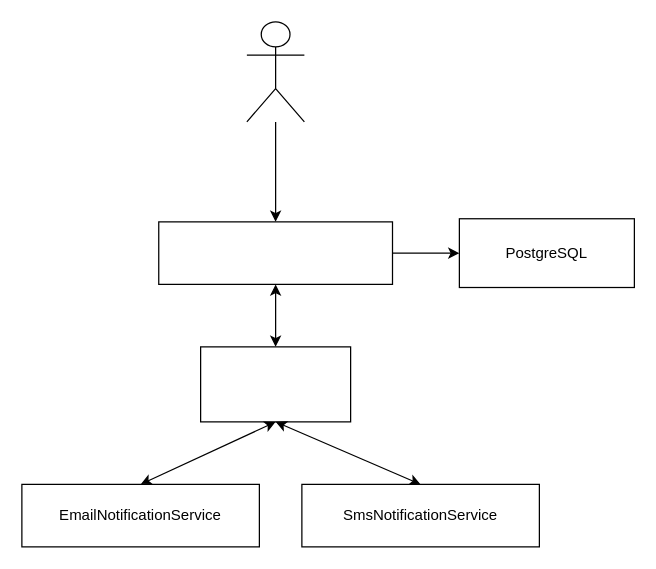
This 656x569 diagram has some shape labels left out. Each missing label, with the box of its shape:
RabbitMq: (199, 346, 351, 422)
Запрос: (246, 21, 304, 122)
